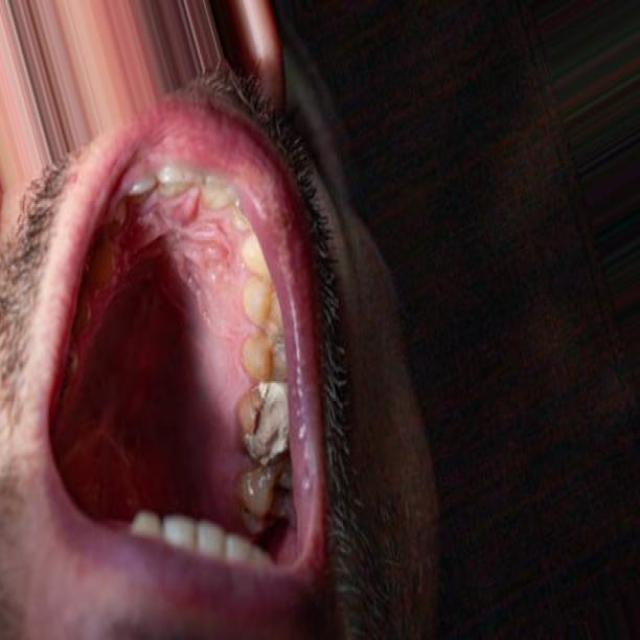caries: (239, 378, 294, 467)
